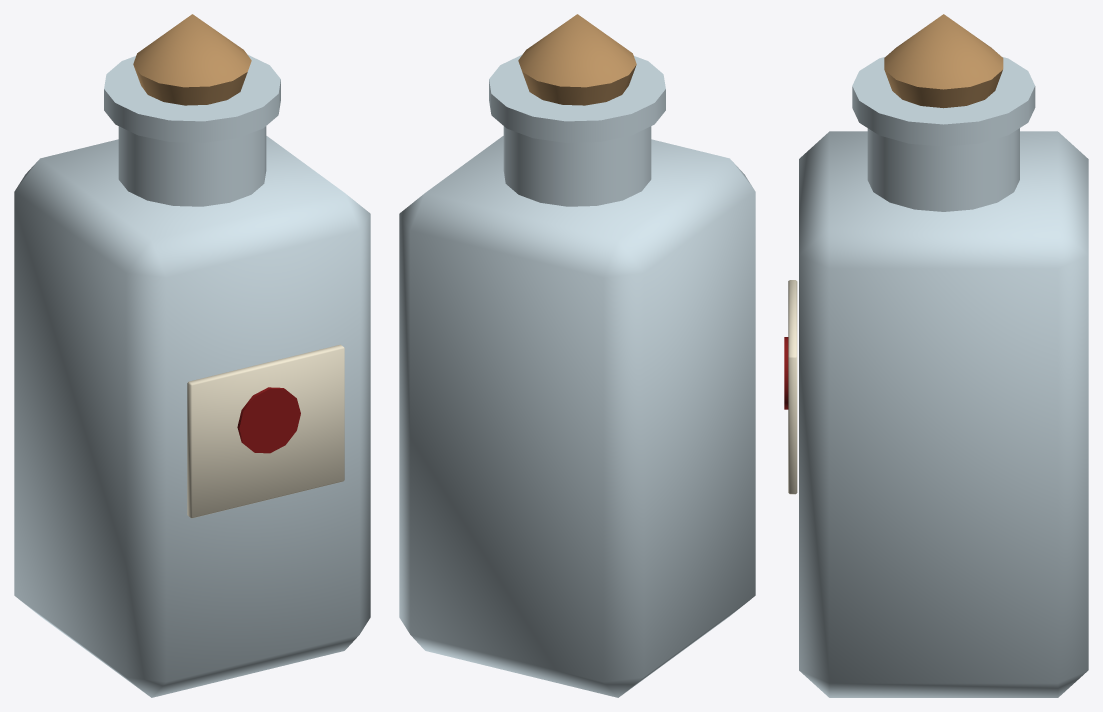
File: bottle_whisky_decanter_square.glb
3 views of the same model, side by side, from view 1: azimuth 30°, elevation 25°; view 2: azimuth 150°, elevation 25°; view 3: azimuth 270°, elevation 25° (orthographic). The views are drawn at different scales.
Parts seen in each view (by area): view 1: bottle_whisky_decanter_square; view 2: bottle_whisky_decanter_square; view 3: bottle_whisky_decanter_square.
Part boxes in pixels (x1,y1,x2,y2): bottle_whisky_decanter_square: (14,14,370,697); bottle_whisky_decanter_square: (399,14,755,697); bottle_whisky_decanter_square: (784,14,1088,697).
Size of the model in its own units: 0.095 by 0.23 by 0.0997.
